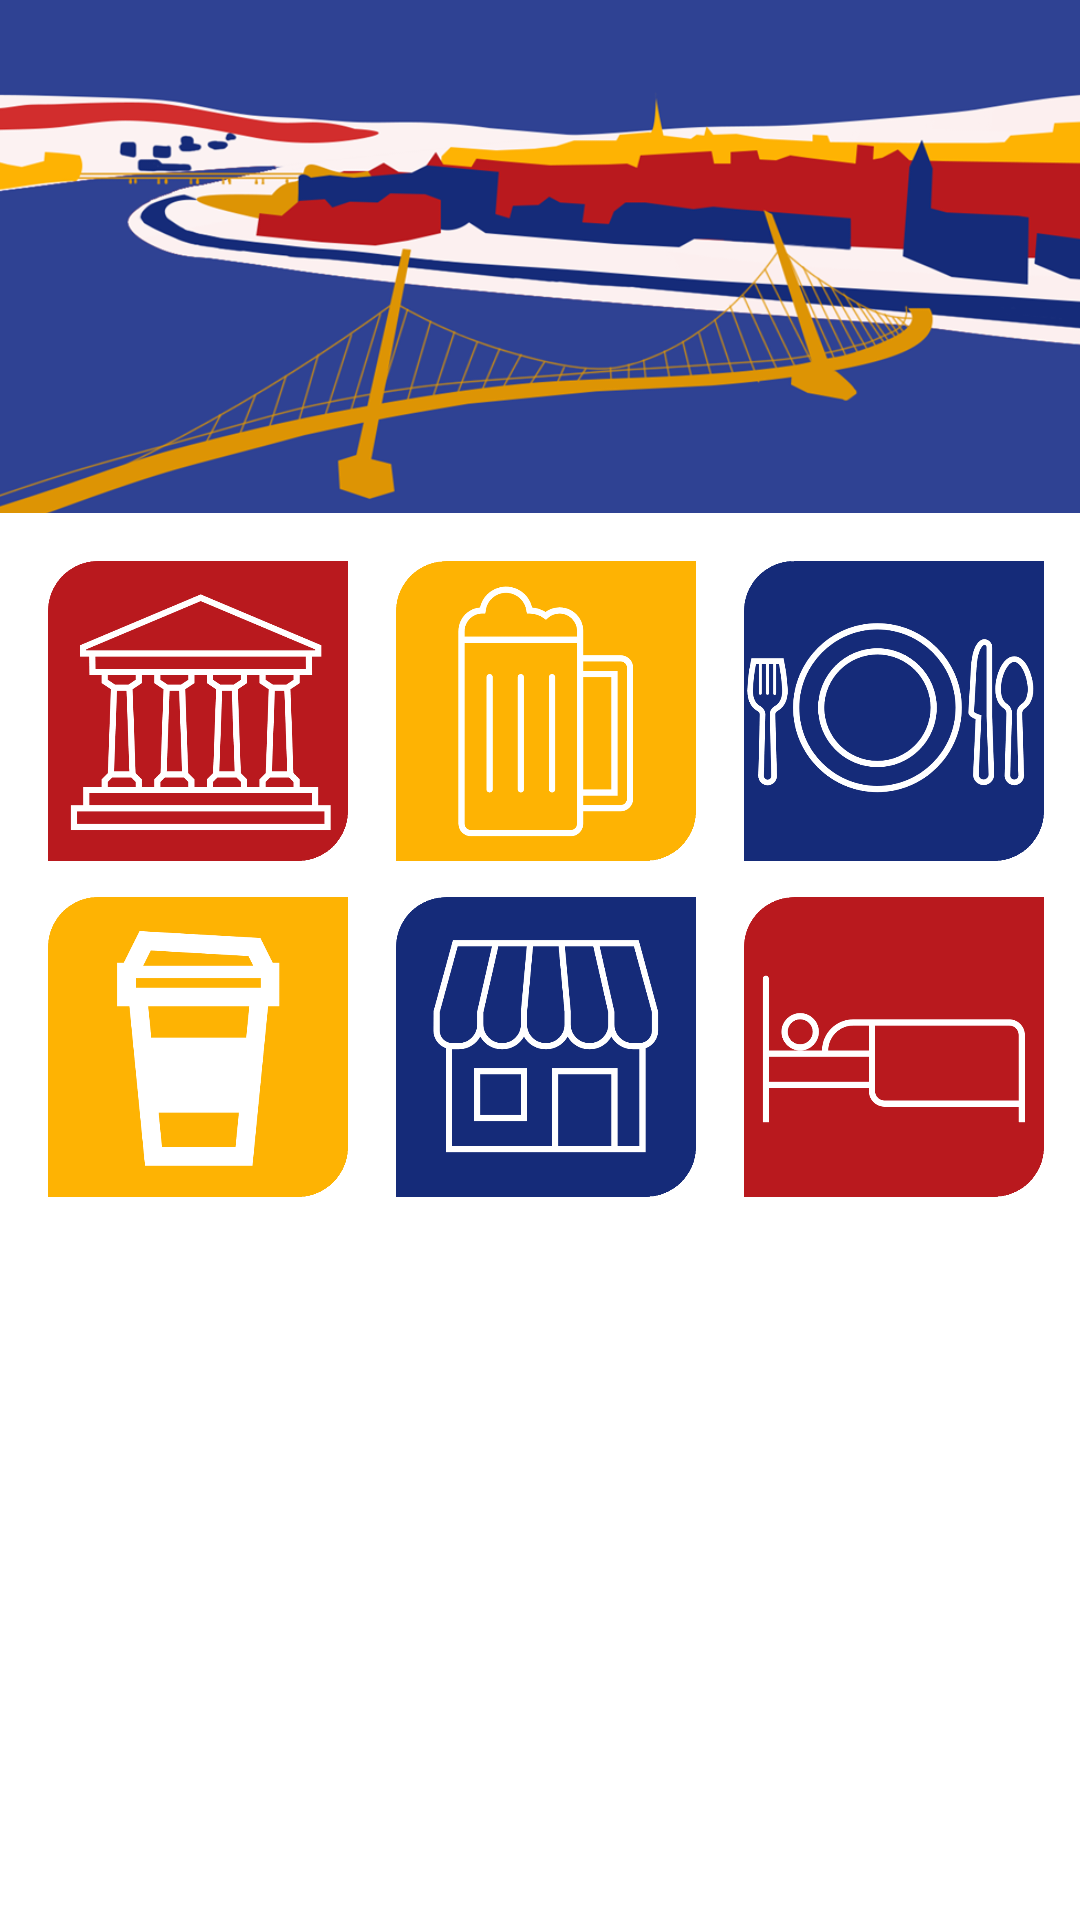

Icons on this 1080 x 1920 Android screen, each with the point to tap as (x=x, y=y):
coffeebutton: (x=198, y=1047)
historicalbutton: (x=198, y=711)
hotelsbutton: (x=894, y=1047)
pubsbutton: (x=546, y=711)
restaurantsbutton: (x=894, y=711)
shopsbutton: (x=546, y=1047)
